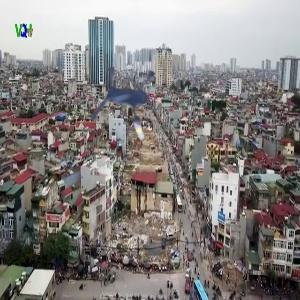drone: (72, 53, 183, 164)
